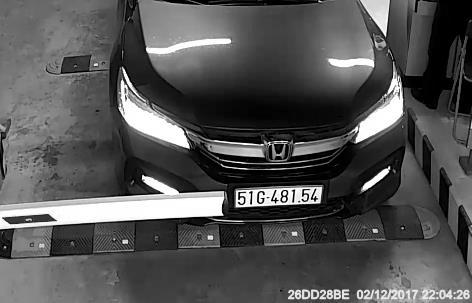License-plate: (231, 184, 327, 215)
